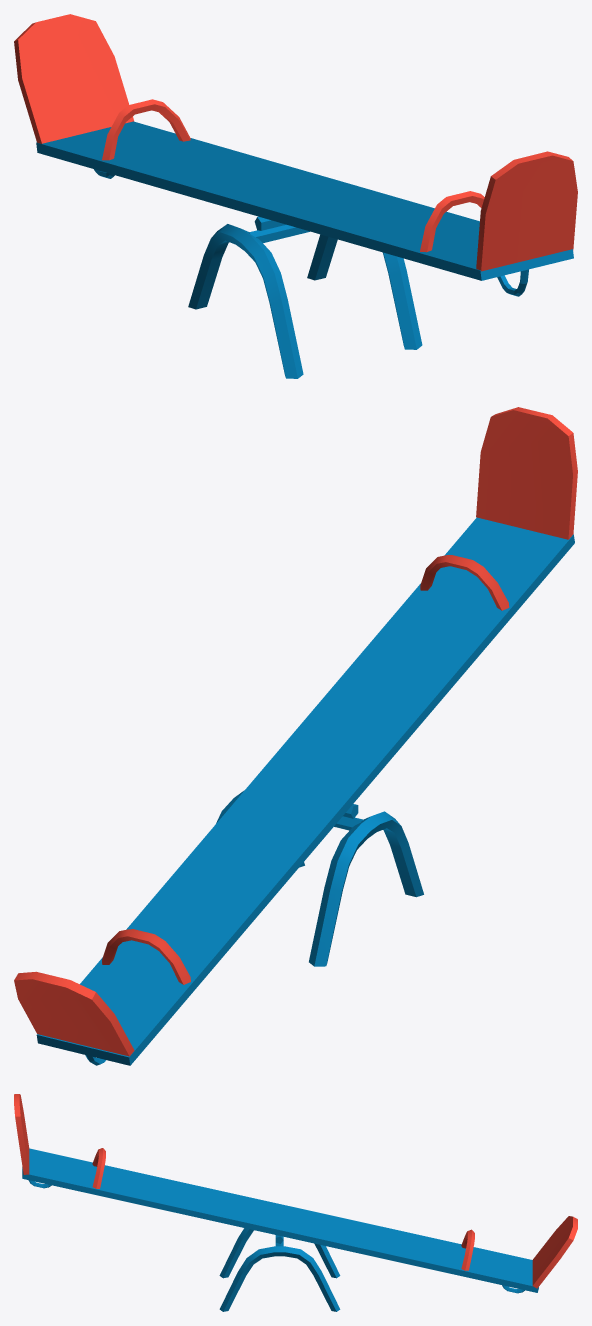
The model's file is Swings2.fbx.
The picture shows the model from 3 angles, top to bottom: view 1: azimuth 30°, elevation 25°; view 2: azimuth 150°, elevation 25°; view 3: azimuth 270°, elevation 25°; orthographic projection. The views are drawn at different scales.
Parts seen in each view (by area): view 1: SM_Swings_01__1_; view 2: SM_Swings_01__1_; view 3: SM_Swings_01__1_.
Boxes of the visible parts, x1,y1,x2,y2 form: SM_Swings_01__1_: (14, 14, 577, 378); SM_Swings_01__1_: (14, 407, 577, 1065); SM_Swings_01__1_: (14, 1094, 577, 1311).
Bounding box in the file's own units: 1586 × 3723 × 9783.
